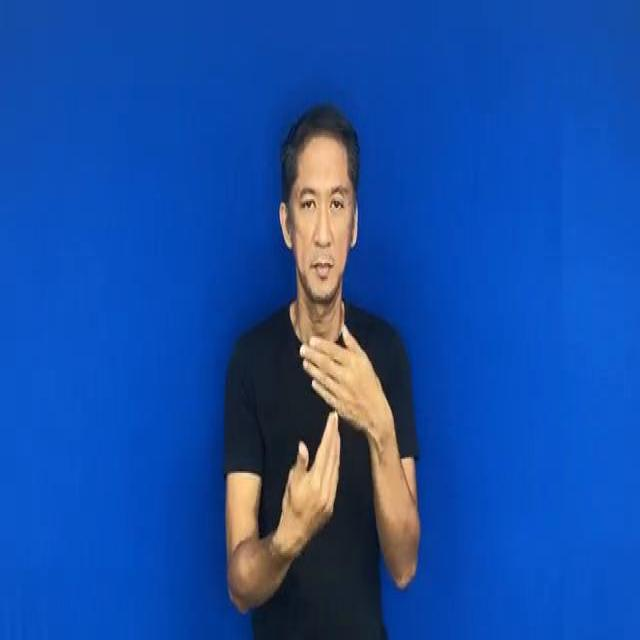bread: (268, 302, 383, 520)
